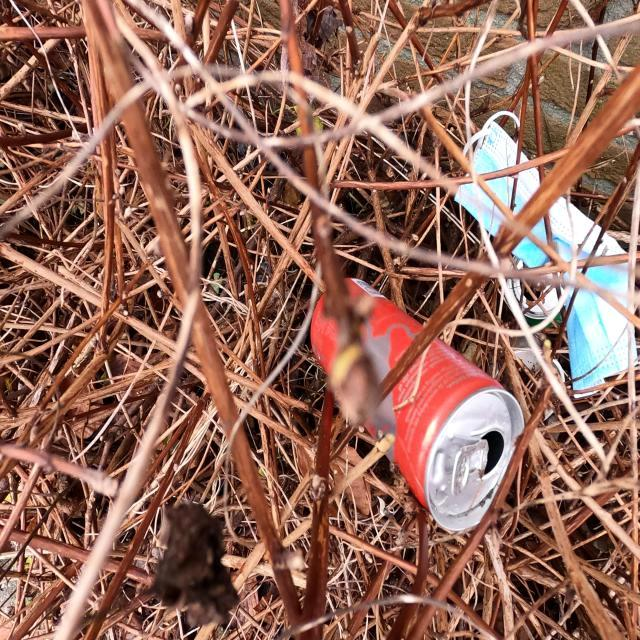Mask: (449, 106, 637, 404)
Metal: (306, 273, 530, 537)
